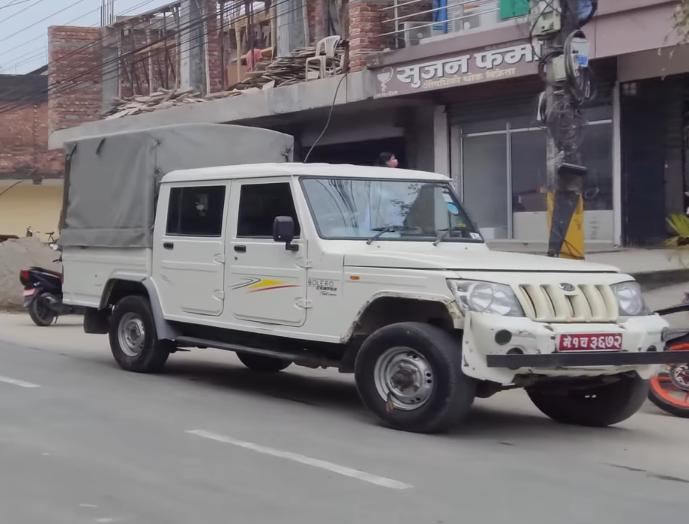scooter: (14, 259, 92, 331)
transport_vehicle: (48, 122, 689, 435)
